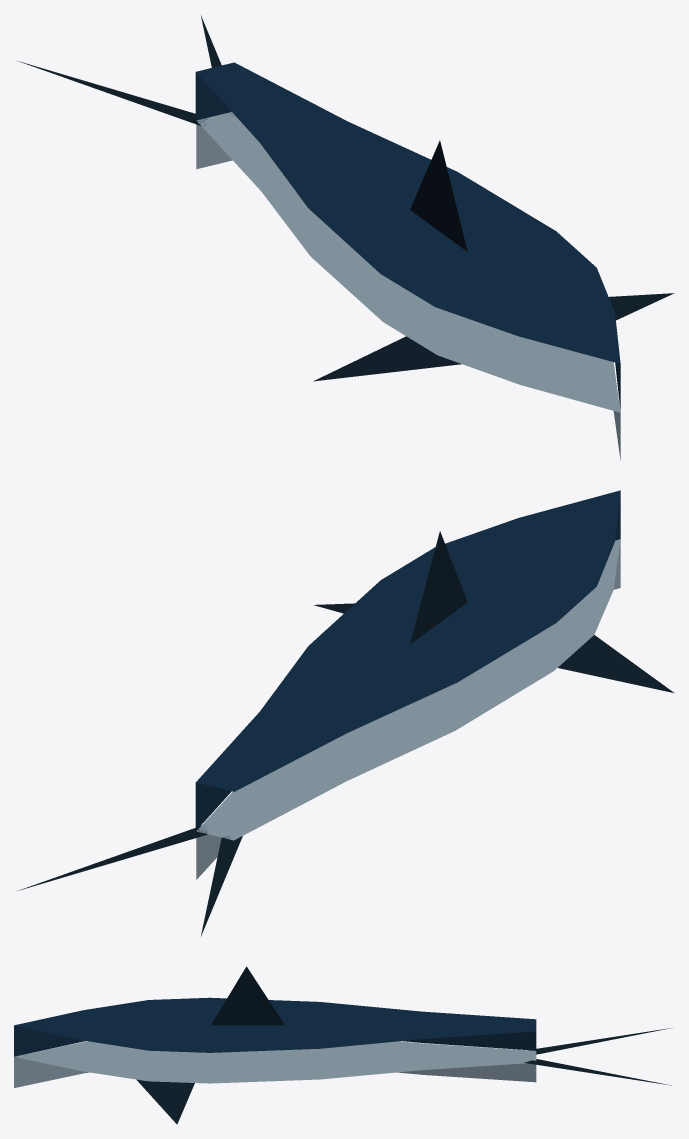
File: sardine-before.glb
3 renders of one model, top to bottom at view 1: azimuth 30°, elevation 25°; view 2: azimuth 150°, elevation 25°; view 3: azimuth 270°, elevation 25°, orthographic. The views are drawn at different scales.
Parts seen in each view (by area): view 1: sardine_hull; view 2: sardine_hull; view 3: sardine_hull.
Boxes of the visible parts, <box> form: sardine_hull: <box>18,16,674,460</box>; sardine_hull: <box>18,490,674,935</box>; sardine_hull: <box>14,966,671,1124</box>.
Size of the model in its own units: 6.6 by 3.3 by 16.2.
Materials: 1 (1 with a texture image).
